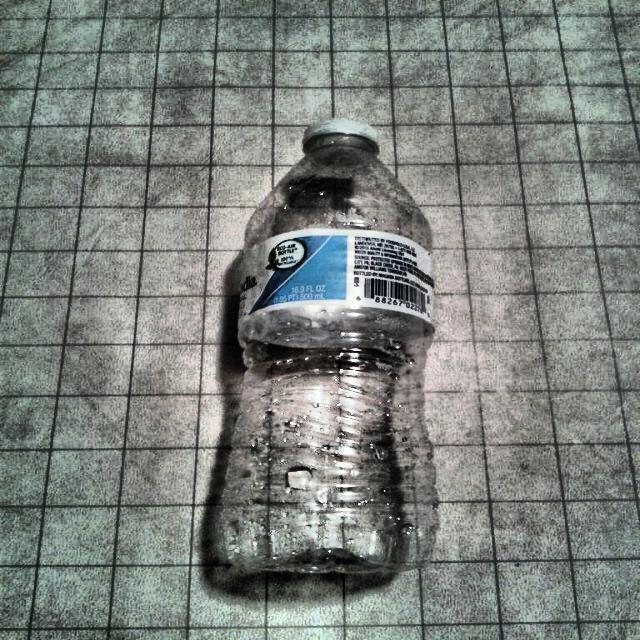Bottles: (193, 112, 469, 600)
